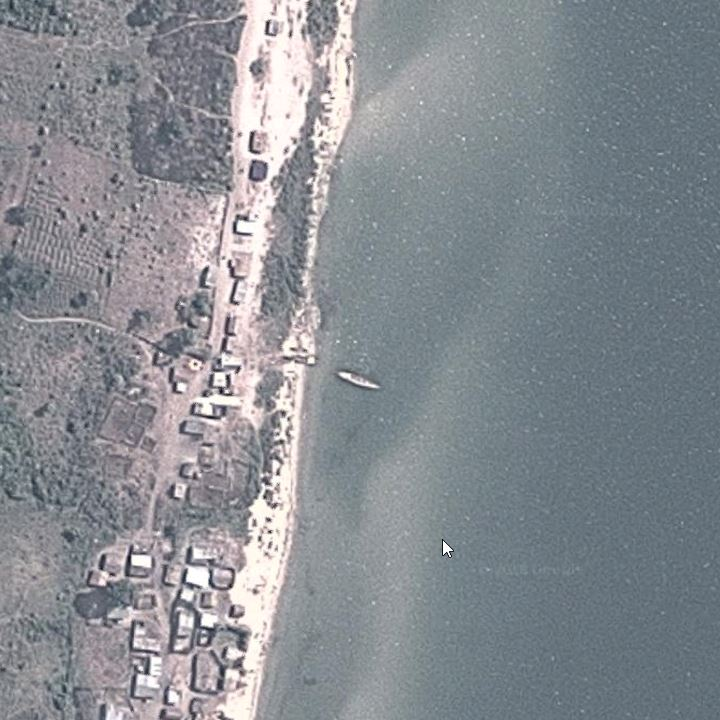boat: (326, 367, 391, 396)
